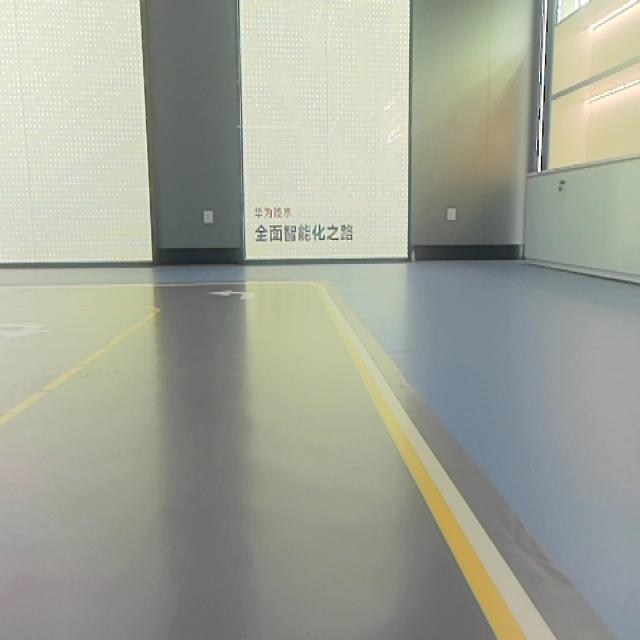left_lane: (2, 307, 157, 431)
right_lane: (324, 299, 524, 637)
